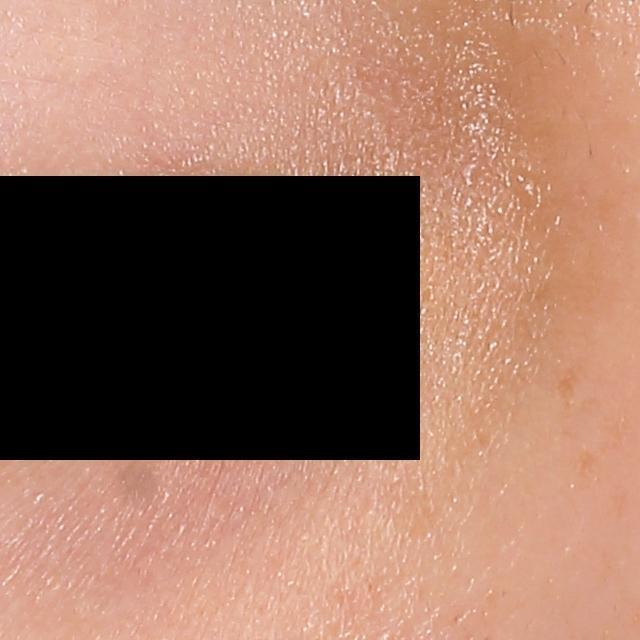melasma: (552, 357, 586, 407)
